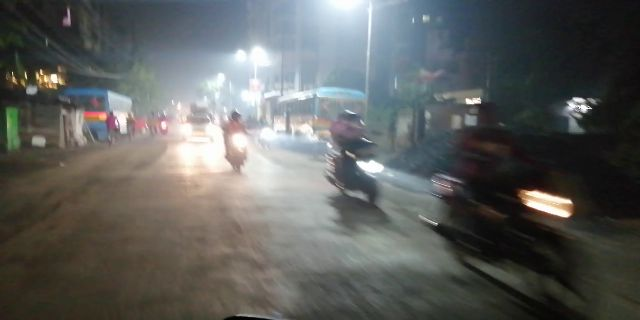Motorbike: (324, 106, 386, 209), (220, 108, 252, 169)
